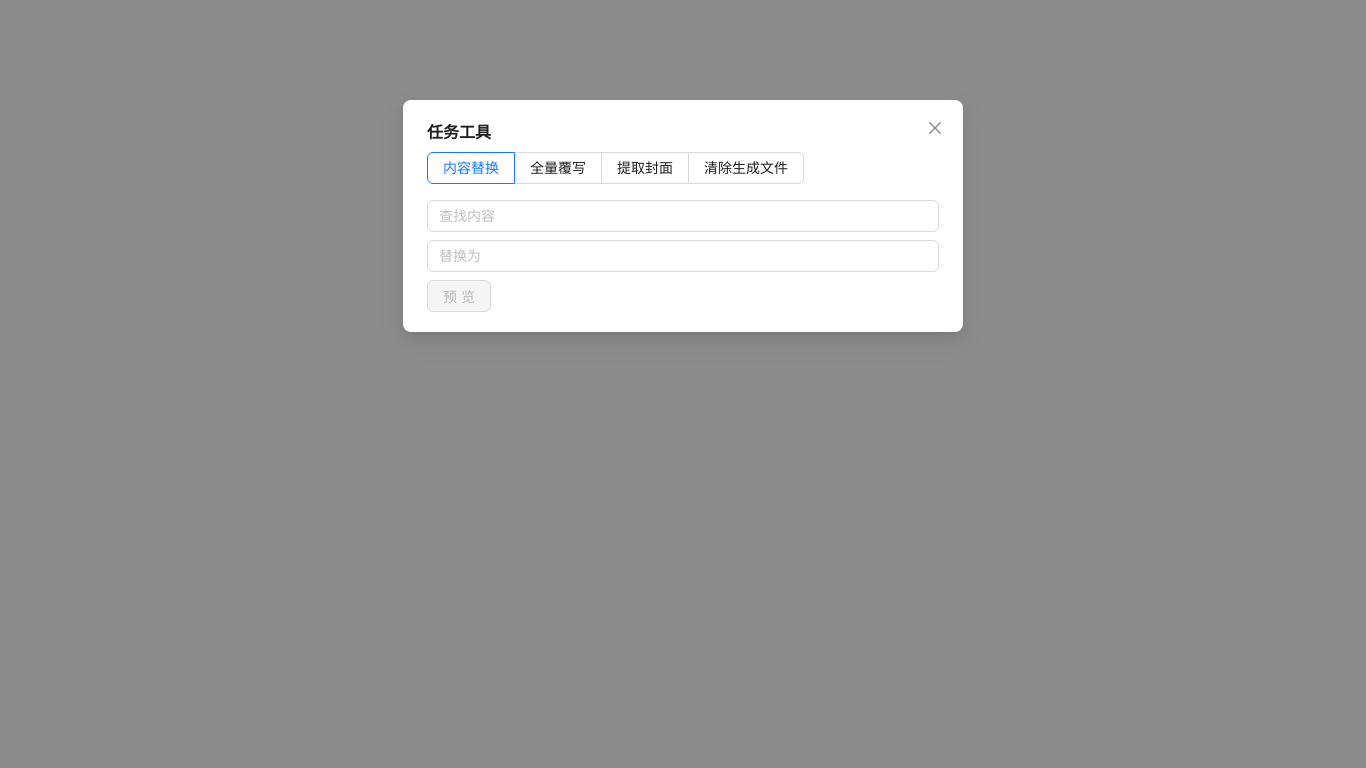
Scenario: 内容替换两段式：先预览后执行
Note: 默认工具即“内容替换”
Click the field with placeholder "查找内容": point(683, 216) [427,200,939,232]
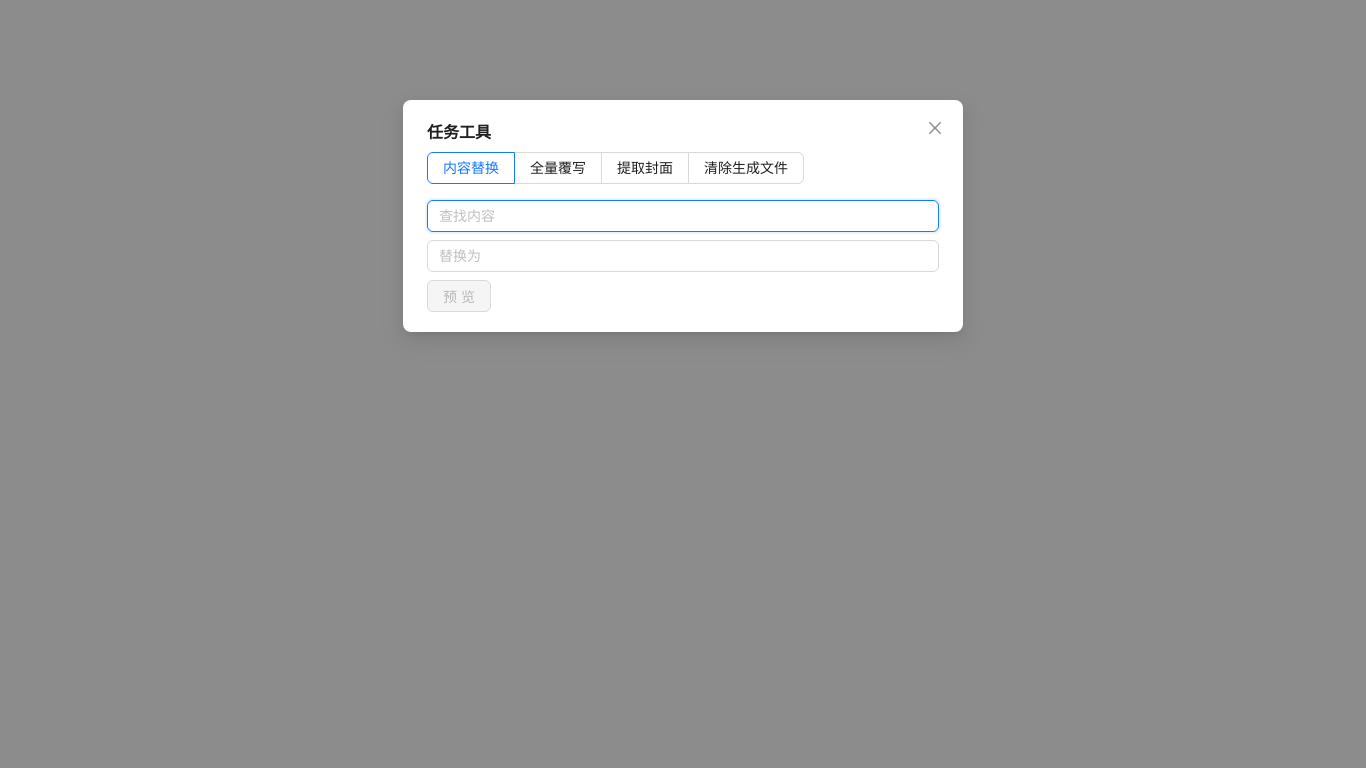
Type keys "http://old"
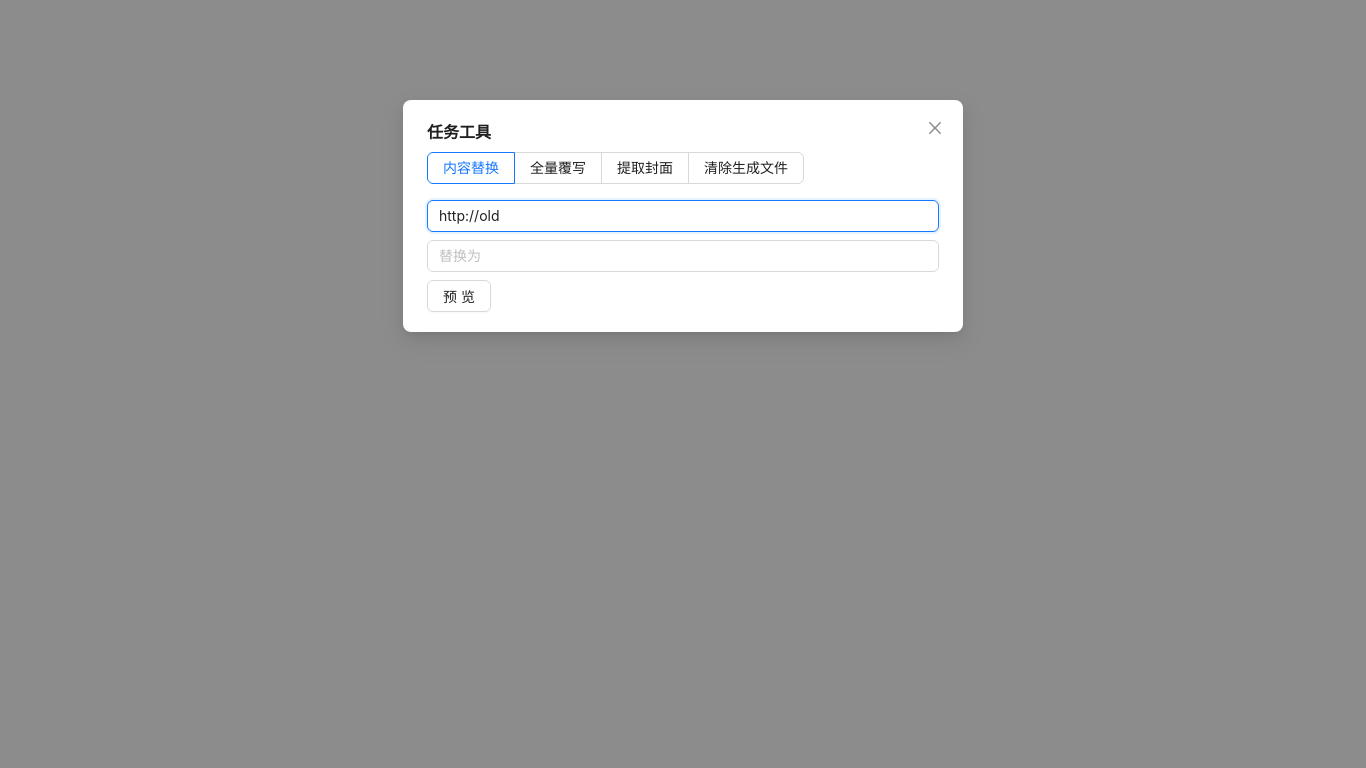
Click the field with placeholder "替换为": point(683, 256) [427,240,939,272]
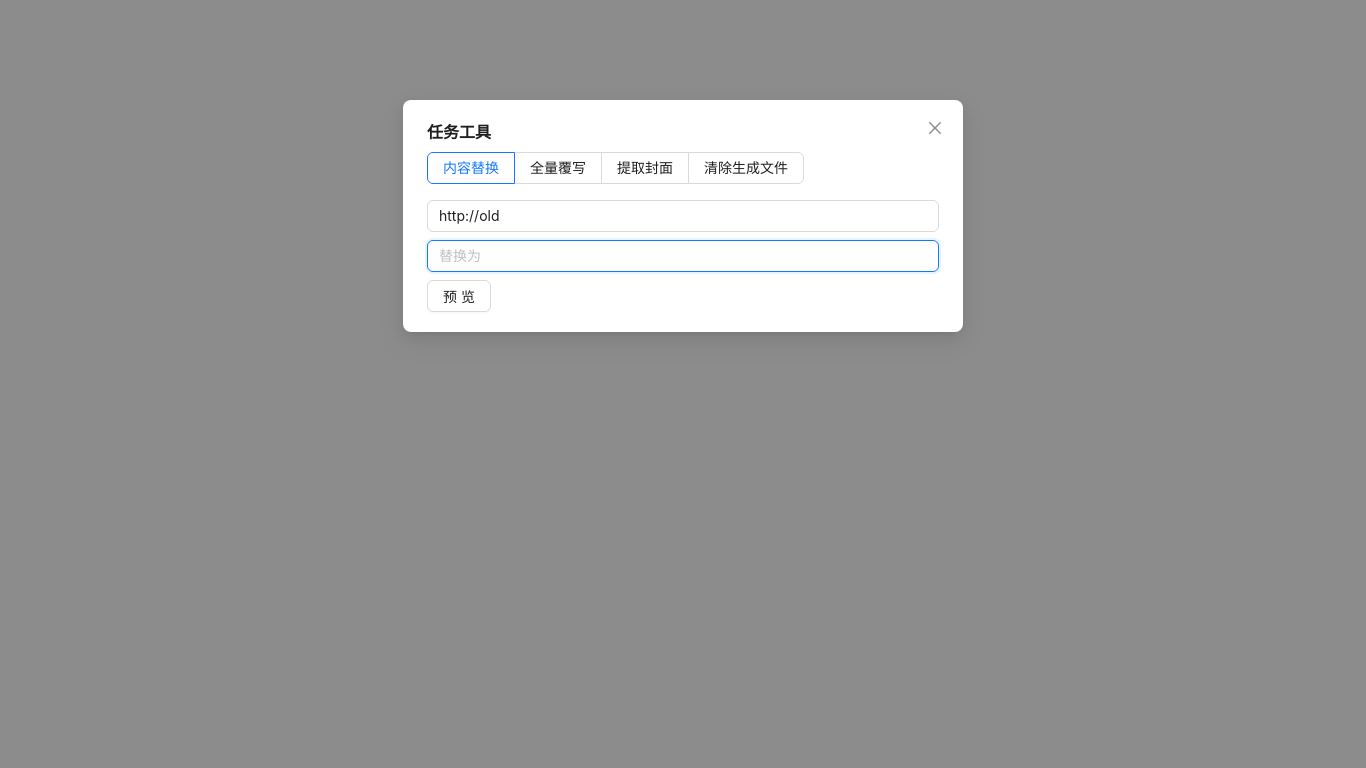
Type keys "http://new"
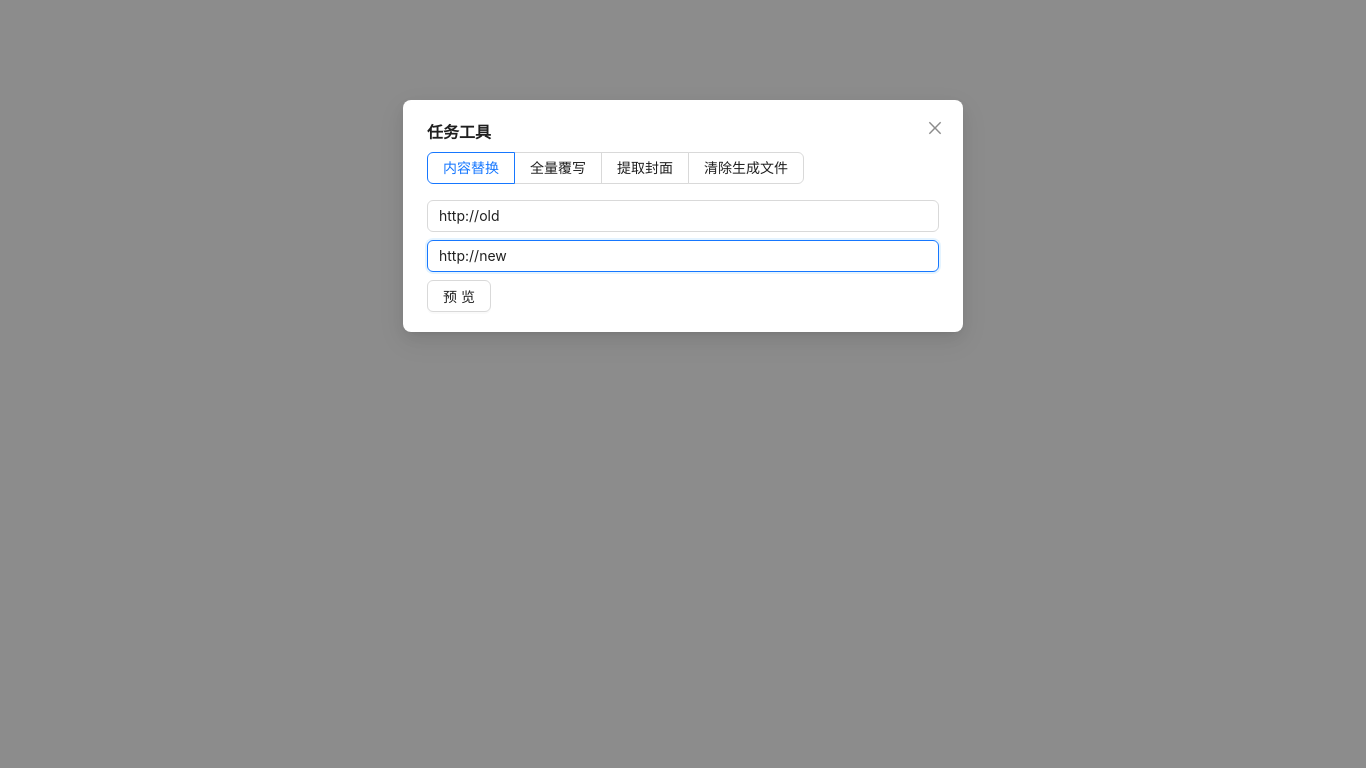
Click the button "预 览": point(459, 296) [427,280,491,312]
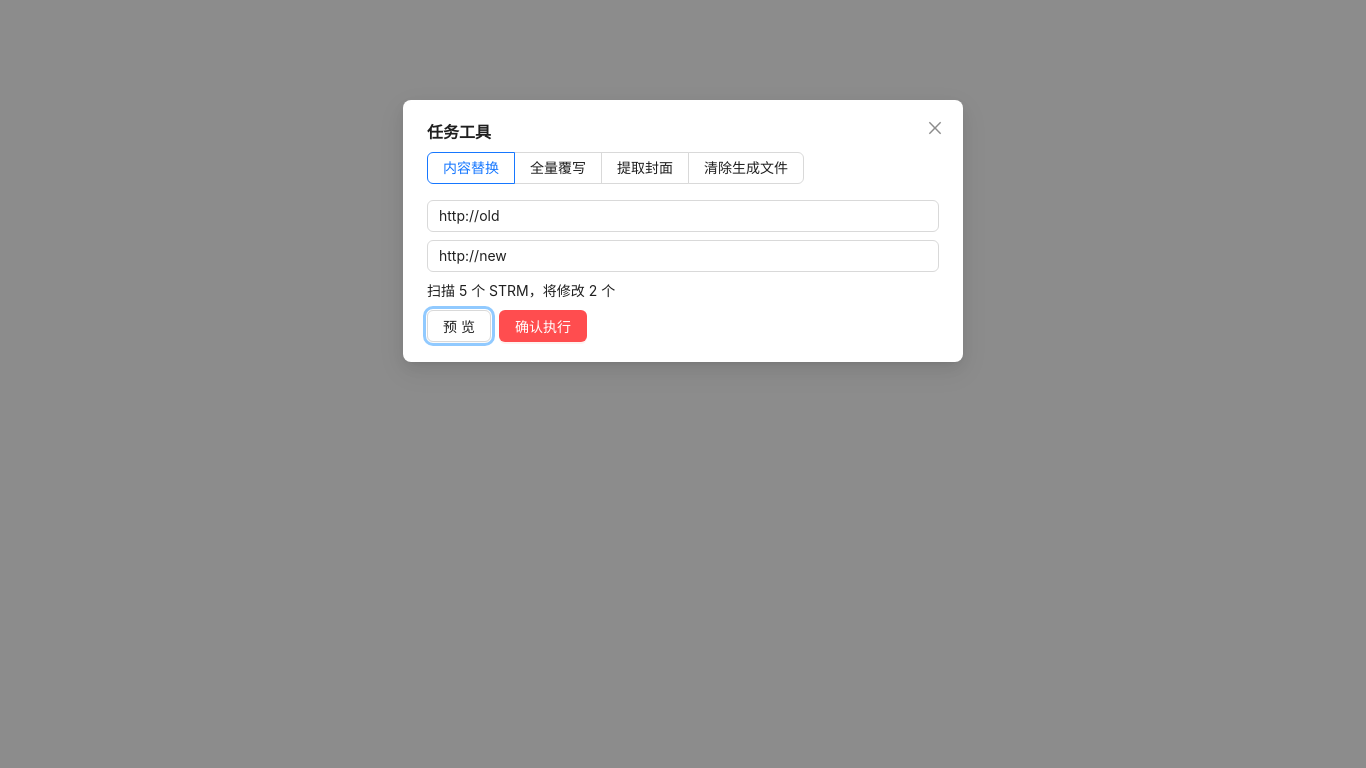
Now the text "扫描 5 个 STRM，将修改 2 个" is shown, box [427,282,615,299]
Click the button "确认执行": point(543, 326) [499,310,587,342]
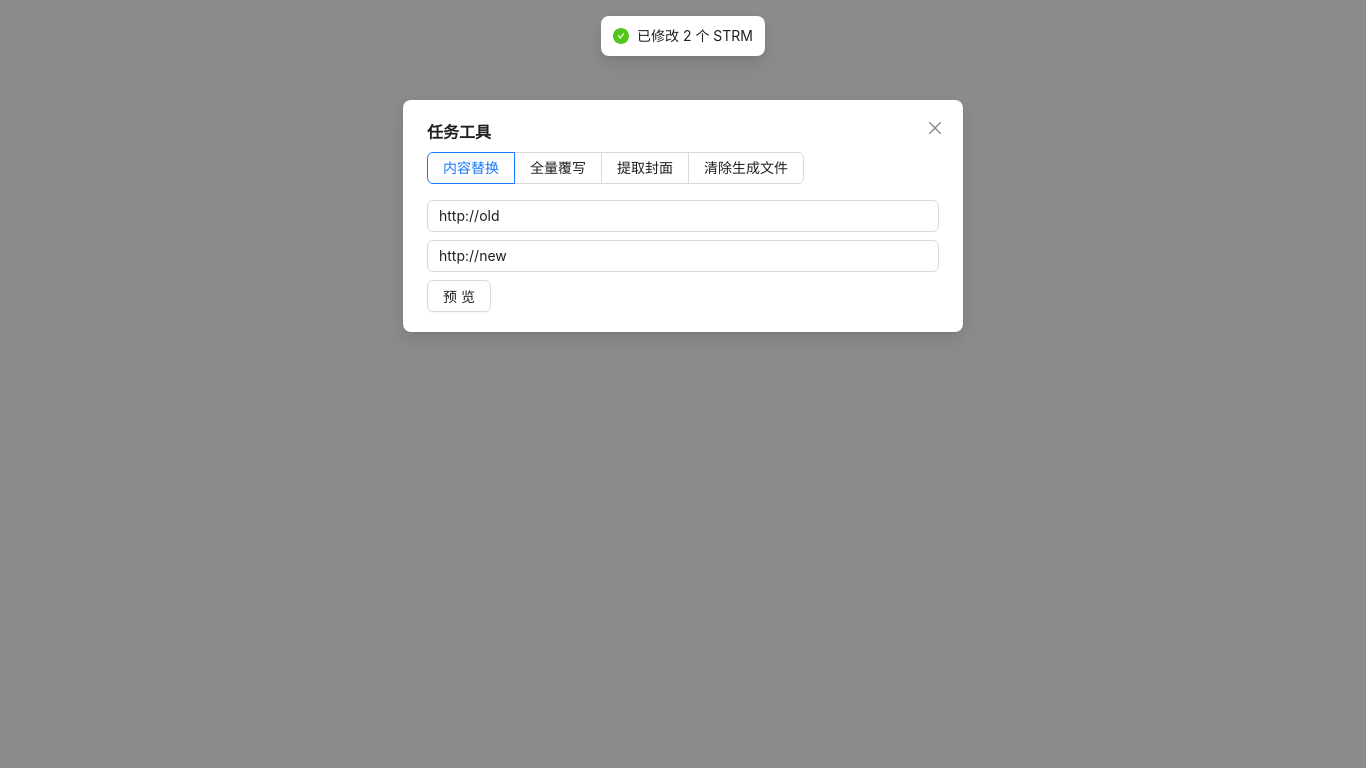
Now the text "已修改 2 个 STRM" is shown, box [637,25,753,47]
